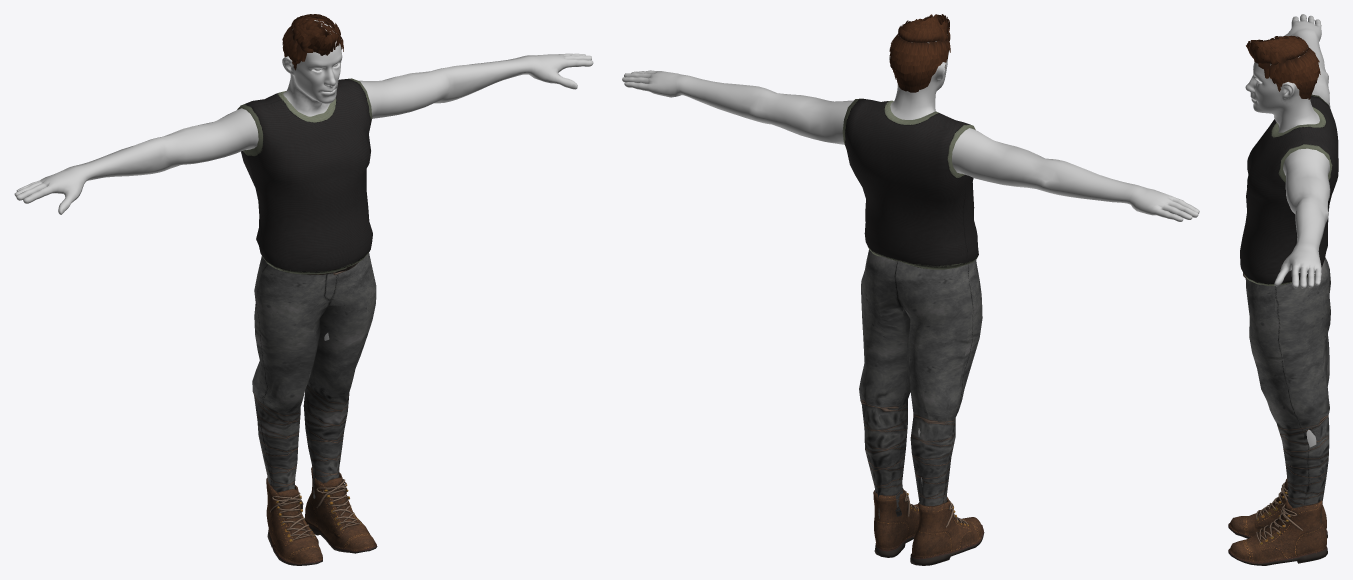
Rendered from sixteenth_clothes_hair.obj.
3 views of the same model, side by side, from view 1: azimuth 30°, elevation 25°; view 2: azimuth 150°, elevation 25°; view 3: azimuth 270°, elevation 25° (orthographic). The views are drawn at different scales.
Parts seen in each view (by area): view 1: Bottoms, Tops, Body, Shoes, Hair; view 2: Bottoms, Tops, Body, Shoes, Hair; view 3: Bottoms, Tops, Body, Shoes, Hair.
Part boxes in pixels (<box>): Bottoms: <box>252,253,376,498</box>; Tops: <box>237,78,372,274</box>; Body: <box>14,20,593,376</box>; Shoes: <box>266,466,377,565</box>; Hair: <box>282,14,343,70</box>; Bottoms: <box>859,249,982,518</box>; Tops: <box>842,98,978,269</box>; Body: <box>622,35,1199,486</box>; Shoes: <box>873,488,984,565</box>; Hair: <box>889,14,950,92</box>; Bottoms: <box>1243,257,1330,522</box>; Tops: <box>1240,94,1338,285</box>; Body: <box>1245,14,1330,447</box>; Shoes: <box>1228,478,1327,565</box>; Hair: <box>1246,35,1320,99</box>.
Bounding box in the file's own units: 21.36 × 18.64 × 3.67.
